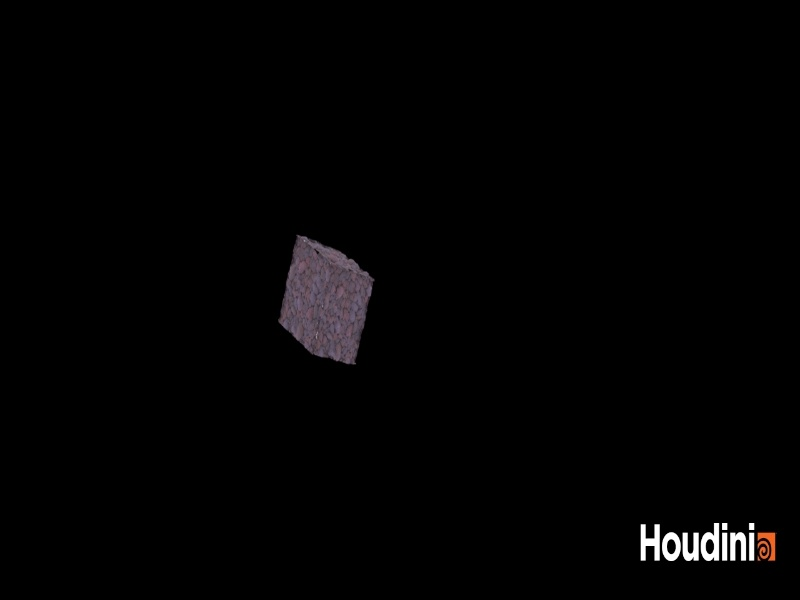waste: (260, 224, 394, 393)
